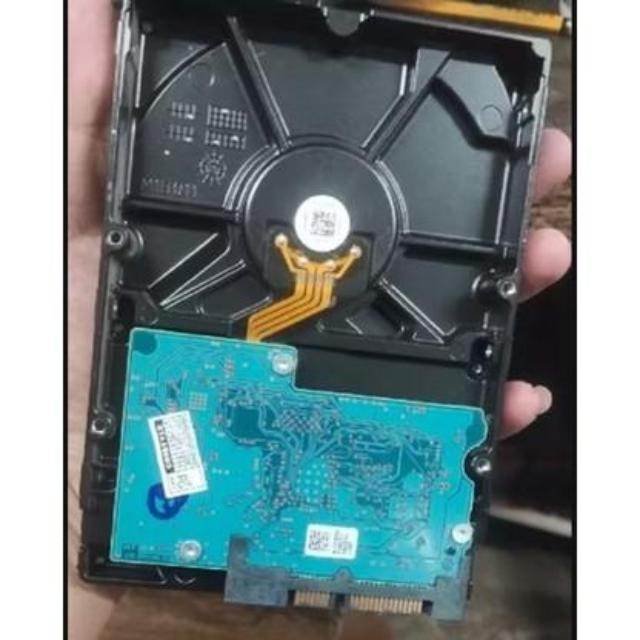DISK: (76, 0, 550, 625)
